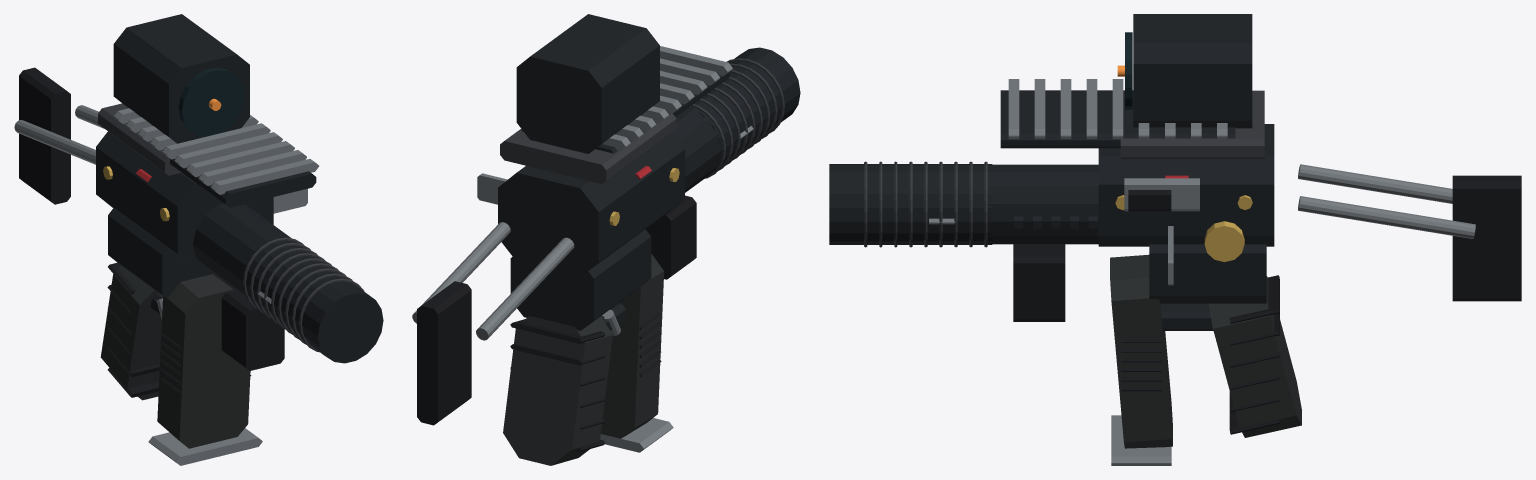
Rendered from 02_Sable9_Compact_SMG.obj.
The picture shows the model from 3 angles, left to right: view 1: azimuth 30°, elevation 25°; view 2: azimuth 150°, elevation 25°; view 3: azimuth 270°, elevation 25°; orthographic projection. The views are drawn at different scales.
Visible parts, largest first — view 1: 014_Magazine, 065_Reflex_Housing, 054_Suppressor, 000_Machined_Upper_Receiver, 051_Folding_Stock_Butt, 007_Angled_Grip, 023_Outer_Barrel_Shroud, 001_Lower_Receiver, 064_Front_Grip, 066_FrontLens, 035_Top_Picatinny, 021_Magazine_BasePlate (+17 smaller); view 2: 065_Reflex_Housing, 000_Machined_Upper_Receiver, 007_Angled_Grip, 014_Magazine, 001_Lower_Receiver, 051_Folding_Stock_Butt, 054_Suppressor, 068_MountPlate, 064_Front_Grip, 023_Outer_Barrel_Shroud, 052_Folding_Stock_Rail_-0.06, 053_Folding_Stock_Rail_0.06 (+10 smaller); view 3: 065_Reflex_Housing, 000_Machined_Upper_Receiver, 054_Suppressor, 014_Magazine, 051_Folding_Stock_Butt, 023_Outer_Barrel_Shroud, 007_Angled_Grip, 001_Lower_Receiver, 035_Top_Picatinny, 064_Front_Grip, 068_MountPlate, 053_Folding_Stock_Rail_0.06 (+12 smaller).
Part boxes in pixels (x1=…): 014_Magazine: x1=157, y1=274, x2=250, y2=448; 065_Reflex_Housing: x1=113, y1=14, x2=249, y2=143; 054_Suppressor: x1=242, y1=237, x2=383, y2=363; 000_Machined_Upper_Receiver: x1=96, y1=131, x2=273, y2=268; 051_Folding_Stock_Butt: x1=19, y1=67, x2=70, y2=204; 007_Angled_Grip: x1=100, y1=266, x2=161, y2=400; 023_Outer_Barrel_Shroud: x1=193, y1=203, x2=291, y2=298; 001_Lower_Receiver: x1=108, y1=208, x2=211, y2=298; 064_Front_Grip: x1=221, y1=290, x2=284, y2=370; 066_FrontLens: x1=178, y1=67, x2=244, y2=136; 035_Top_Picatinny: x1=126, y1=120, x2=316, y2=207; 021_Magazine_BasePlate: x1=148, y1=428, x2=262, y2=465; 065_Reflex_Housing: x1=516, y1=14, x2=659, y2=153; 000_Machined_Upper_Receiver: x1=498, y1=133, x2=684, y2=276; 007_Angled_Grip: x1=503, y1=316, x2=612, y2=465; 014_Magazine: x1=601, y1=254, x2=664, y2=438; 001_Lower_Receiver: x1=510, y1=229, x2=651, y2=330; 051_Folding_Stock_Butt: x1=417, y1=281, x2=471, y2=425; 054_Suppressor: x1=688, y1=47, x2=800, y2=173; 068_MountPlate: x1=500, y1=113, x2=676, y2=183; 064_Front_Grip: x1=645, y1=195, x2=696, y2=279; 023_Outer_Barrel_Shroud: x1=672, y1=107, x2=720, y2=192; 052_Folding_Stock_Rail_-0.06: x1=476, y1=237, x2=574, y2=340; 053_Folding_Stock_Rail_0.06: x1=412, y1=222, x2=510, y2=323; 065_Reflex_Housing: x1=1133, y1=14, x2=1252, y2=128; 000_Machined_Upper_Receiver: x1=1098, y1=124, x2=1274, y2=246; 054_Suppressor: x1=829, y1=164, x2=992, y2=244; 014_Magazine: x1=1110, y1=254, x2=1172, y2=448; 051_Folding_Stock_Butt: x1=1452, y1=175, x2=1521, y2=301; 023_Outer_Barrel_Shroud: x1=983, y1=164, x2=1098, y2=244; 007_Angled_Grip: x1=1208, y1=276, x2=1301, y2=437; 001_Lower_Receiver: x1=1149, y1=244, x2=1266, y2=303; 035_Top_Picatinny: x1=1000, y1=90, x2=1235, y2=148; 064_Front_Grip: x1=1013, y1=244, x2=1065, y2=321; 068_MountPlate: x1=1120, y1=90, x2=1264, y2=159; 053_Folding_Stock_Rail_0.06: x1=1298, y1=196, x2=1475, y2=238.
Size of the model in its own units: 0.3295 by 0.7345 by 1.11.
